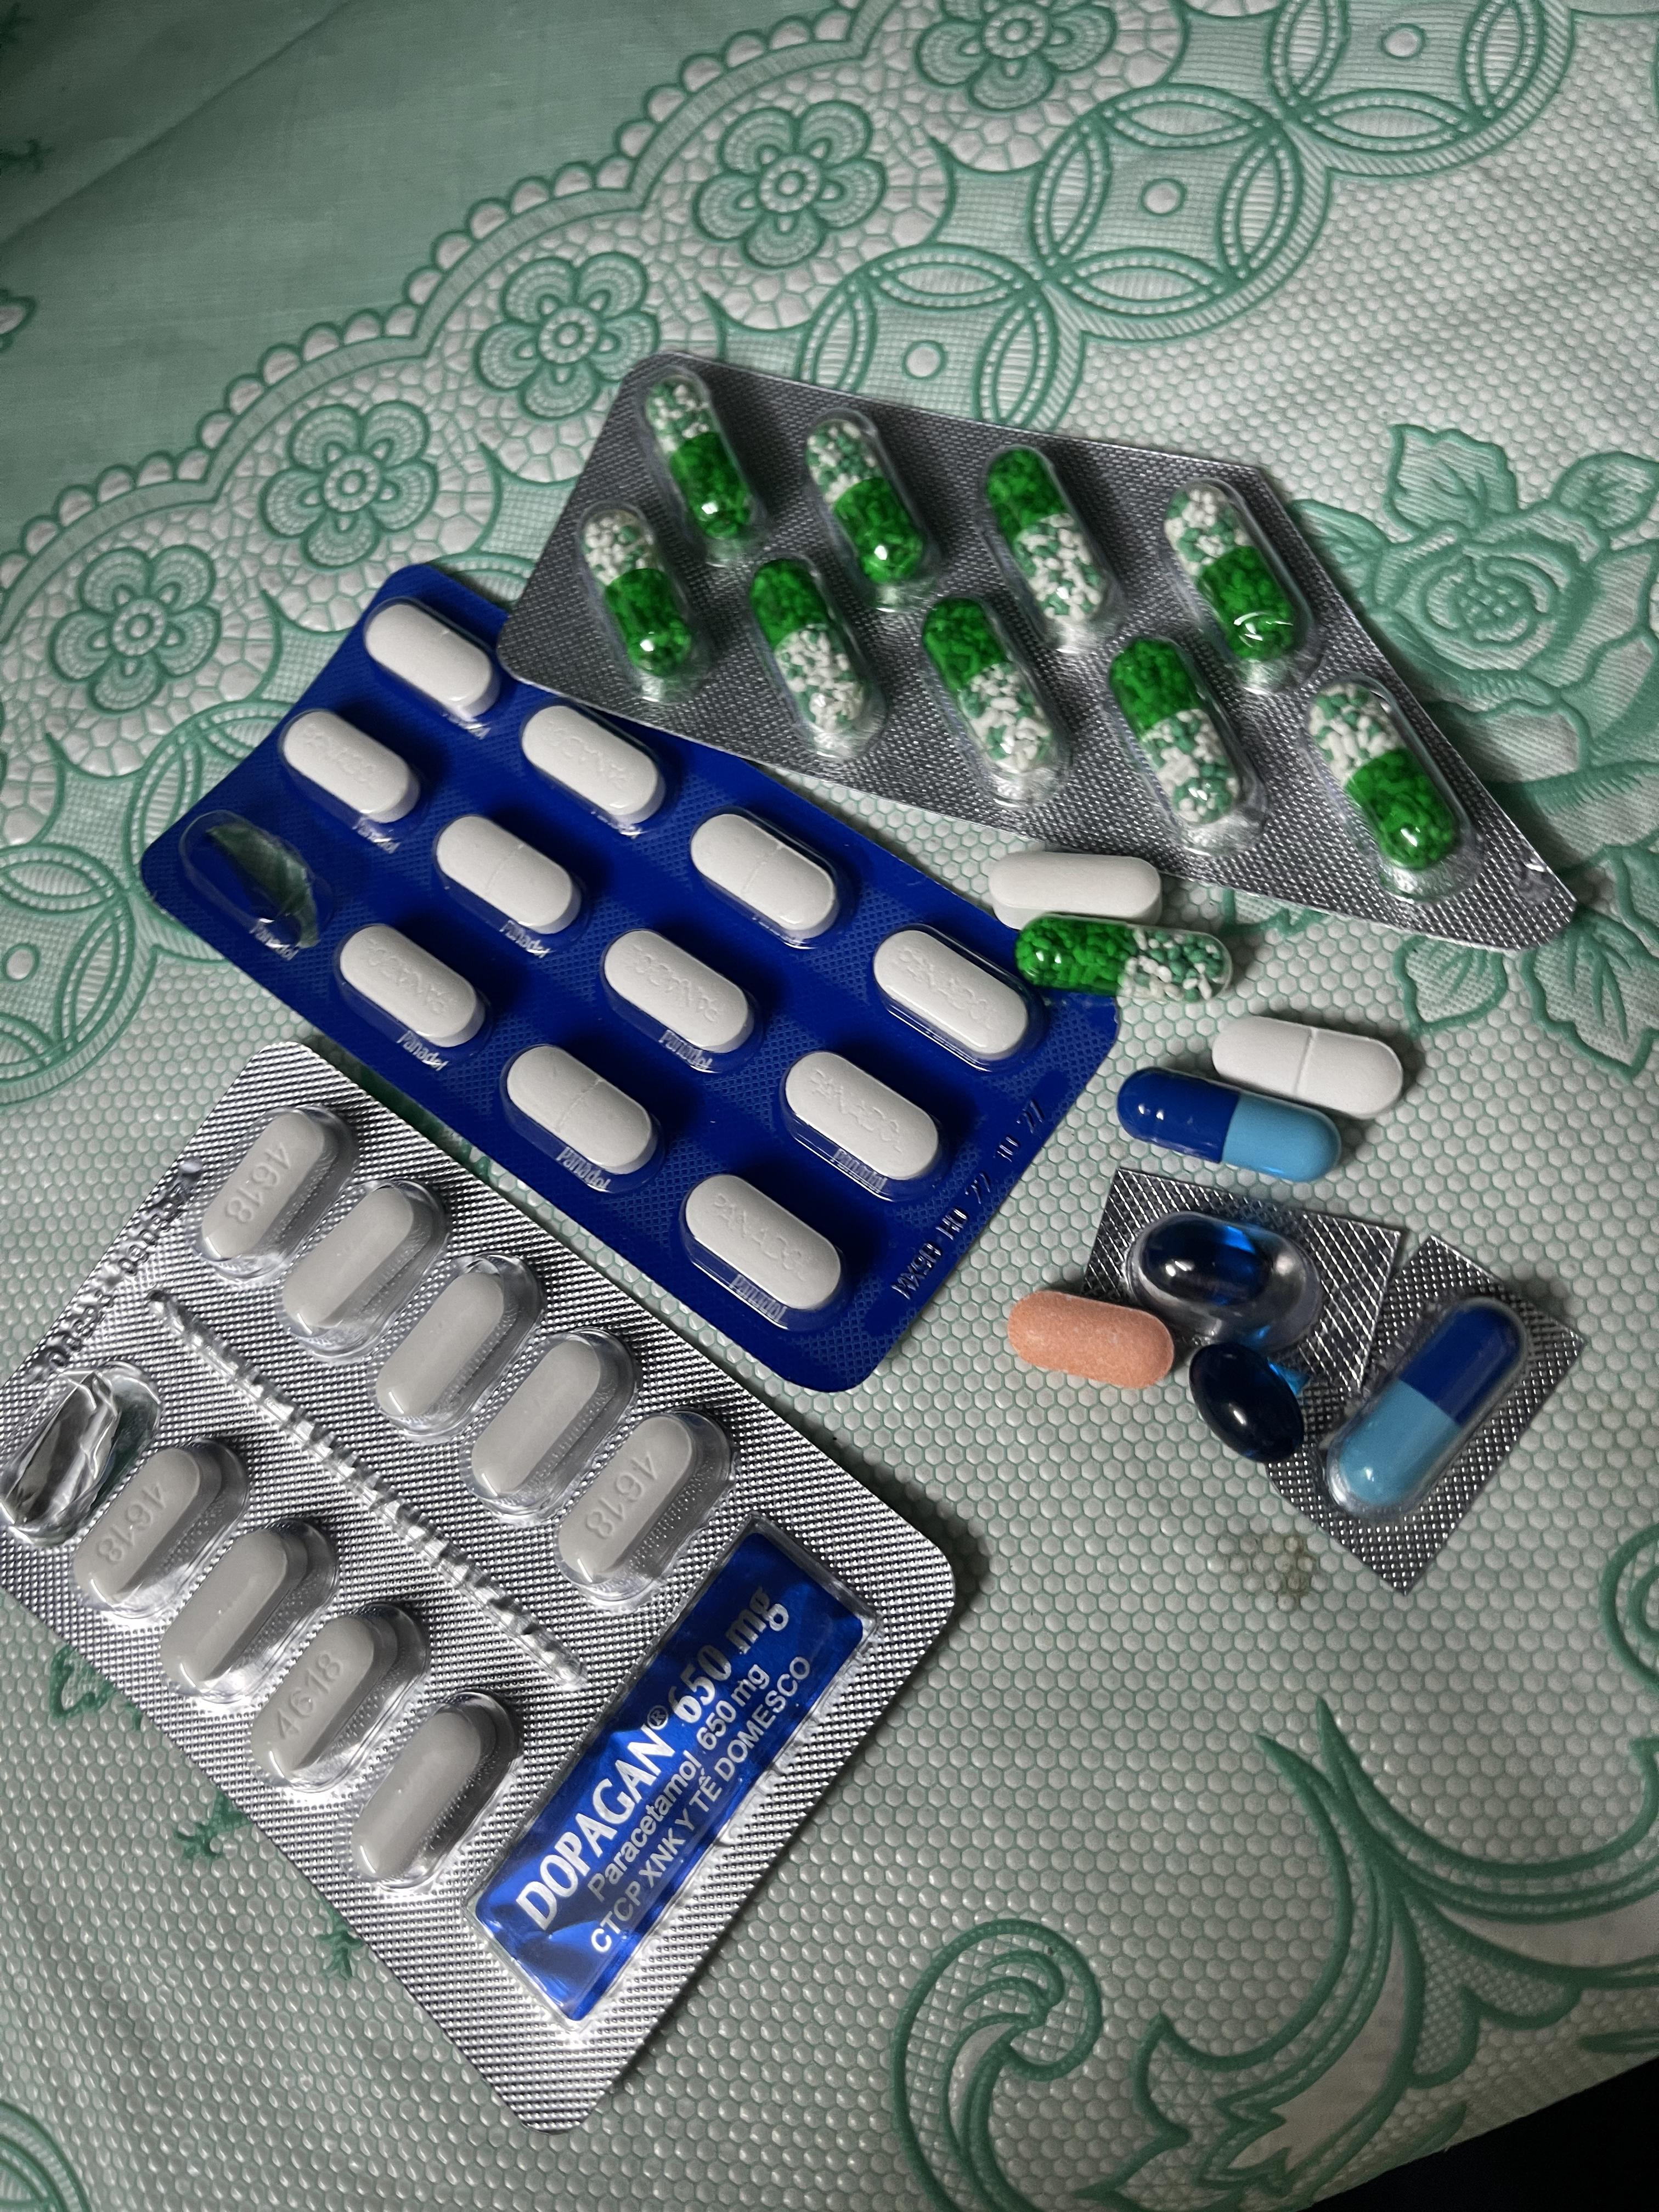Lincomyxin_500mg: (1188, 1341, 1310, 1465), (1141, 1219, 1274, 1305)
Loratadine_10mg: (1006, 1291, 1169, 1386)
Paracetamol_350mg: (871, 927, 1035, 1073), (685, 1177, 847, 1324), (782, 1043, 948, 1183), (601, 928, 756, 1068), (688, 810, 845, 948), (504, 1045, 660, 1183), (1215, 1015, 1403, 1118), (340, 925, 486, 1055), (437, 815, 582, 942), (521, 702, 666, 829), (281, 709, 420, 833), (364, 601, 498, 723)
Paracetamol_500mg: (160, 1514, 338, 1705), (345, 1693, 516, 1892), (249, 1602, 427, 1792), (558, 1407, 728, 1602), (467, 1336, 634, 1521), (378, 1252, 538, 1428), (277, 1169, 441, 1336), (199, 1106, 352, 1273), (73, 1437, 220, 1601), (988, 848, 1155, 930)
Paracetamol_650mg: (1314, 681, 1471, 897), (924, 603, 1080, 817), (1103, 634, 1253, 845), (992, 449, 1133, 648), (580, 503, 718, 704), (1162, 477, 1298, 672), (749, 559, 882, 749), (643, 371, 770, 566), (807, 416, 934, 603), (1025, 914, 1204, 1008)
pill: (1317, 1296, 1528, 1519), (1122, 1062, 1338, 1174)
